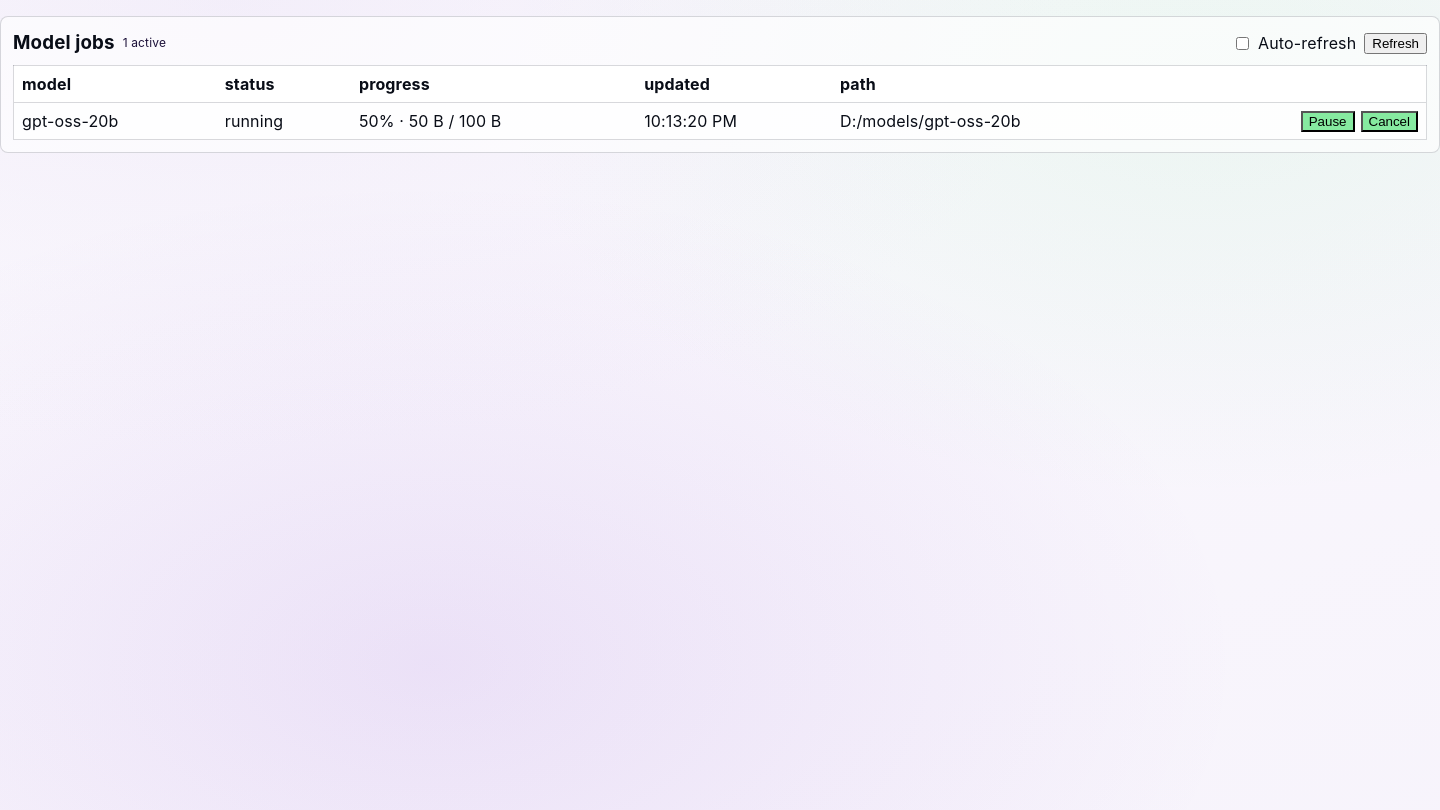
Scenario: ModelJobsPanel › renders model jobs and pauses a running job
Check: the text "gpt-oss-20b" is shown, box [14,103,217,140]
Check: the text "50% · 50 B / 100 B" is shown, box [351,103,636,140]
Click the button "Pause" at (1328, 121), box [1301,111,1354,132]
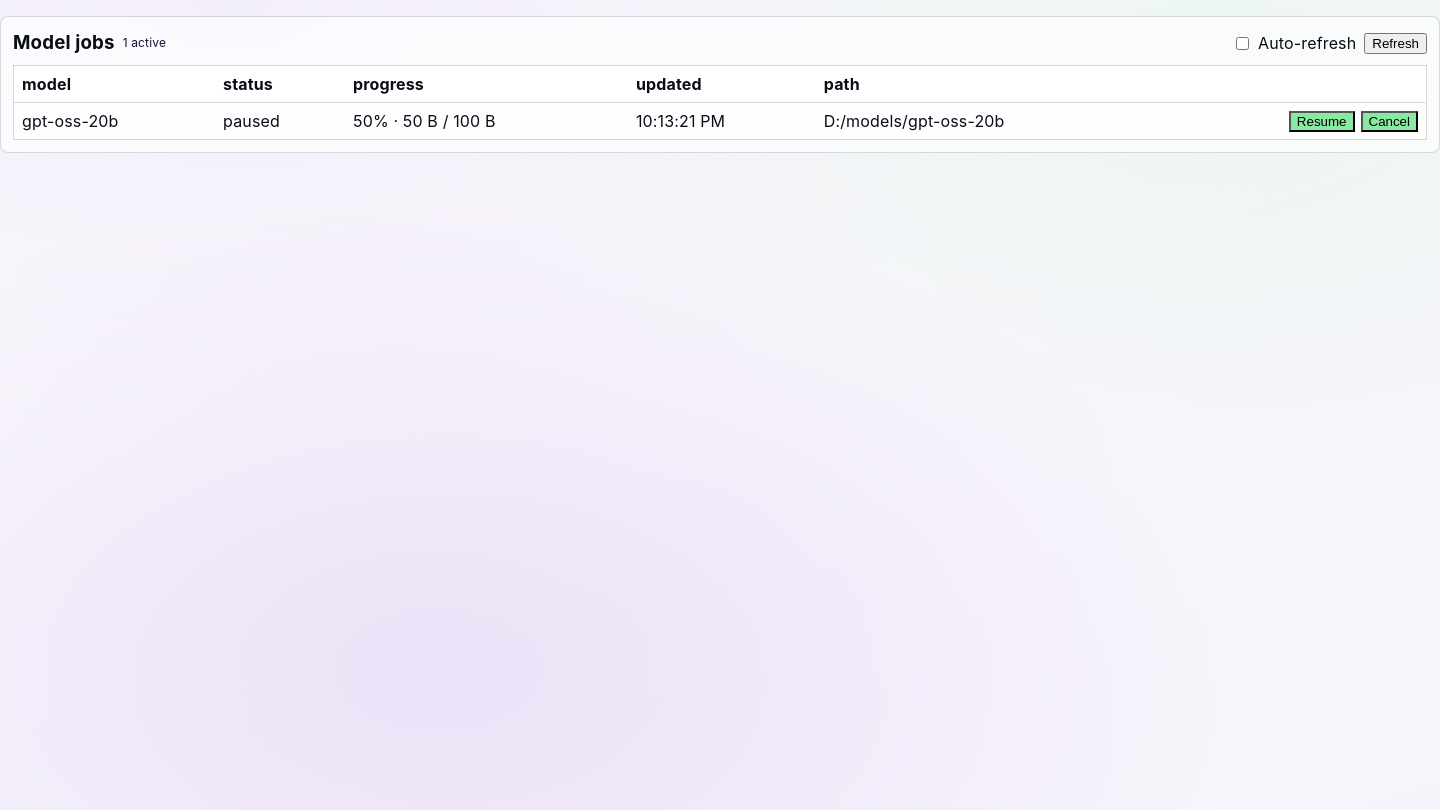
Check: the text "paused" is shown, box [215,103,345,140]
